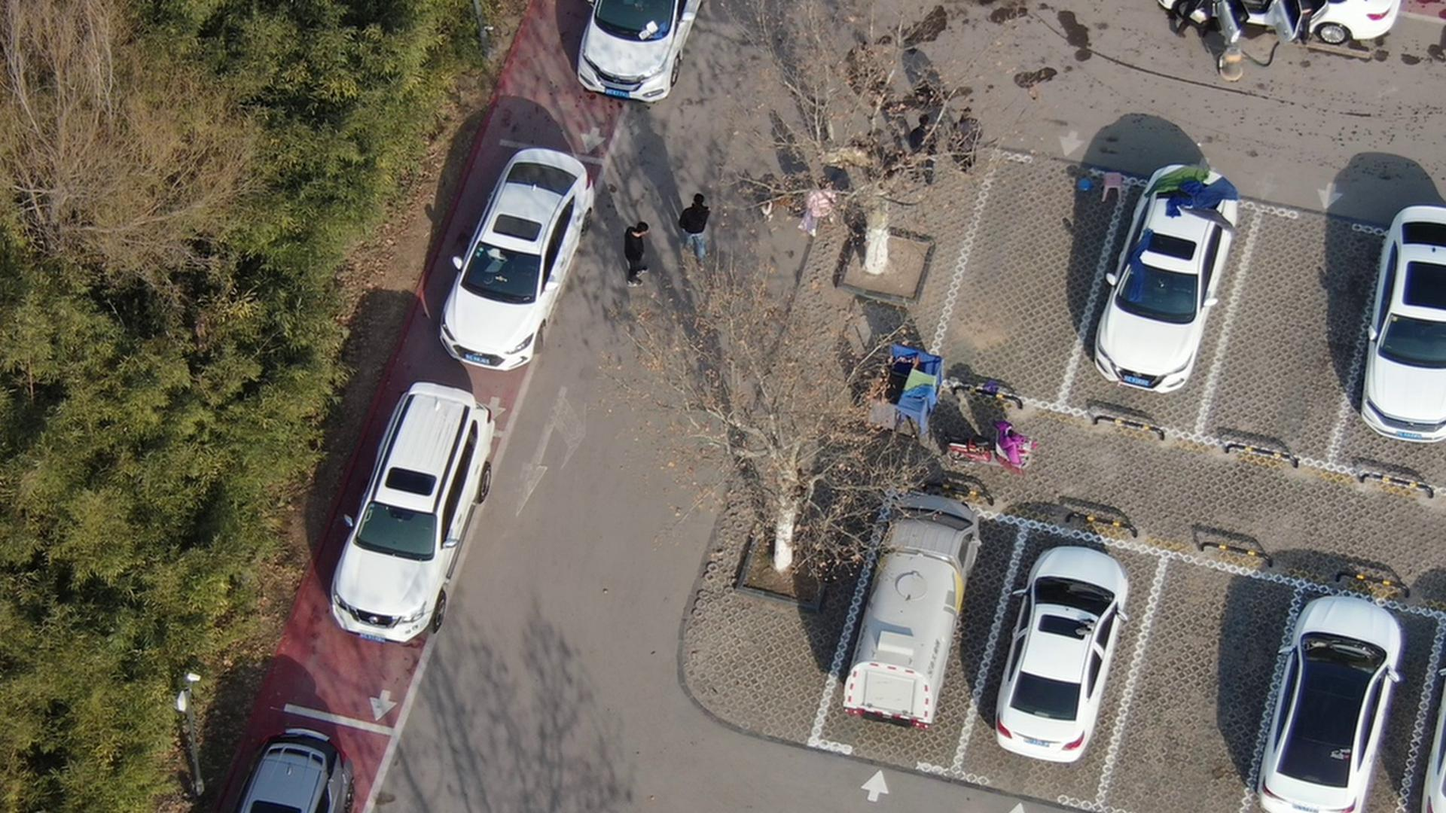human: (915, 96, 956, 184), (807, 173, 847, 248), (623, 216, 658, 300), (955, 99, 992, 178), (682, 185, 719, 263), (1178, 1, 1228, 38), (1286, 1, 1319, 52)
